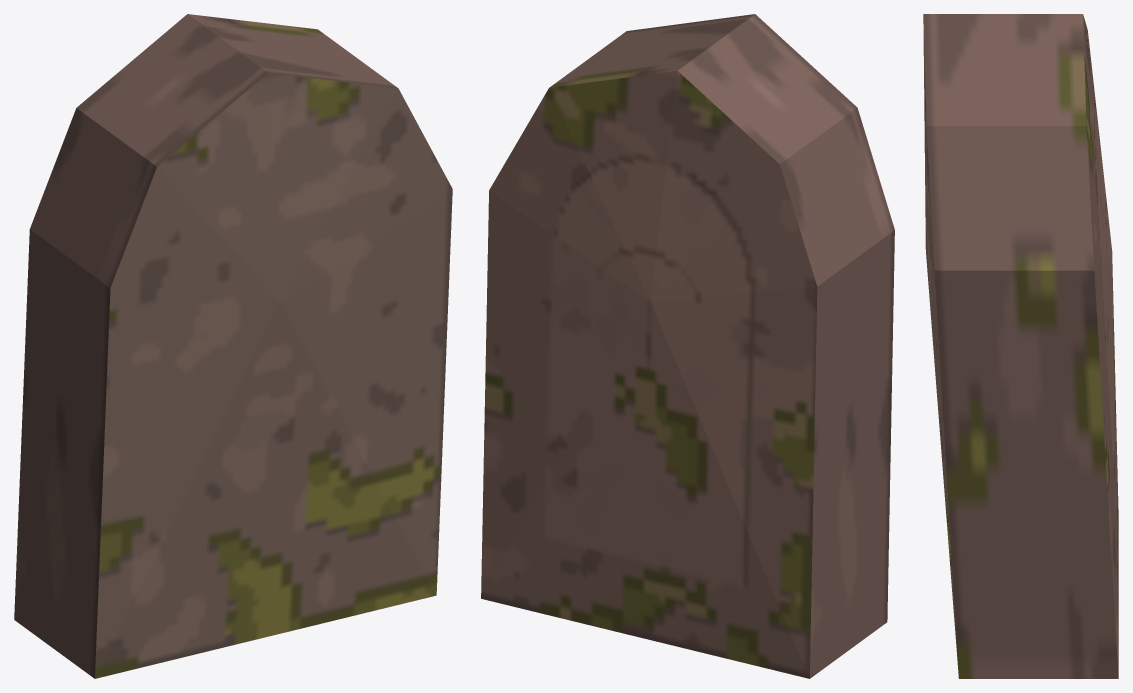
File: SM_SP05_GravestoneSmall.fbx
The picture shows the model from 3 angles, left to right: view 1: azimuth 30°, elevation 25°; view 2: azimuth 150°, elevation 25°; view 3: azimuth 270°, elevation 25°; orthographic projection. The views are drawn at different scales.
Parts seen in each view (by area): view 1: SP05_Stone; view 2: SP05_Stone; view 3: SP05_Stone.
Part boxes in pixels (x1=…): SP05_Stone: x1=14, y1=14, x2=452, y2=678; SP05_Stone: x1=481, y1=14, x2=894, y2=678; SP05_Stone: x1=923, y1=14, x2=1118, y2=678.
Bounding box in the file's own units: 0.445 × 0.715 × 0.22.
